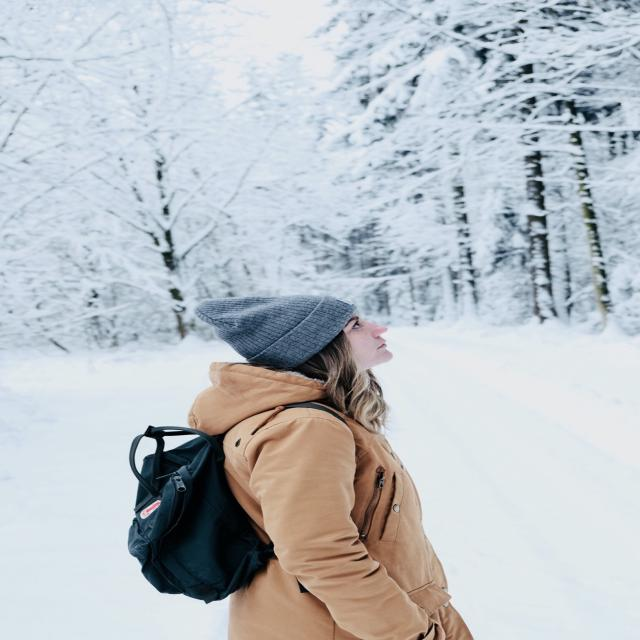backpack: (127, 396, 350, 606)
